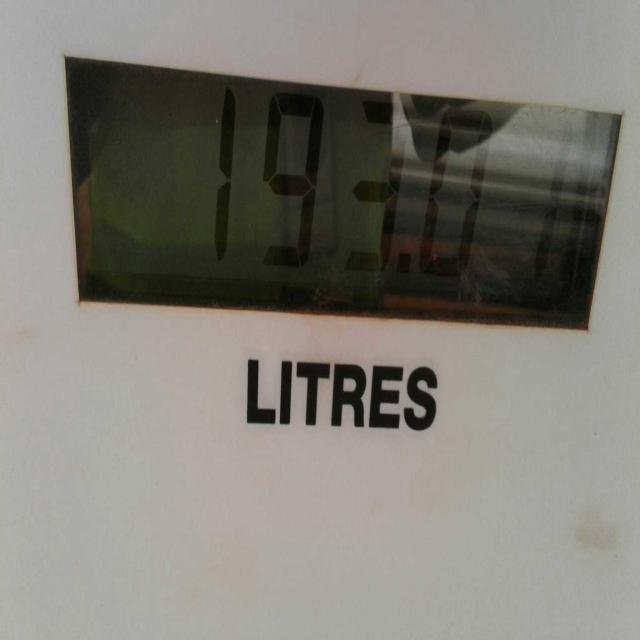.: (391, 238, 421, 296)
0: (416, 97, 491, 323)
1: (515, 106, 581, 298), (196, 68, 250, 280)
3: (346, 80, 411, 304)
9: (249, 79, 327, 283)
